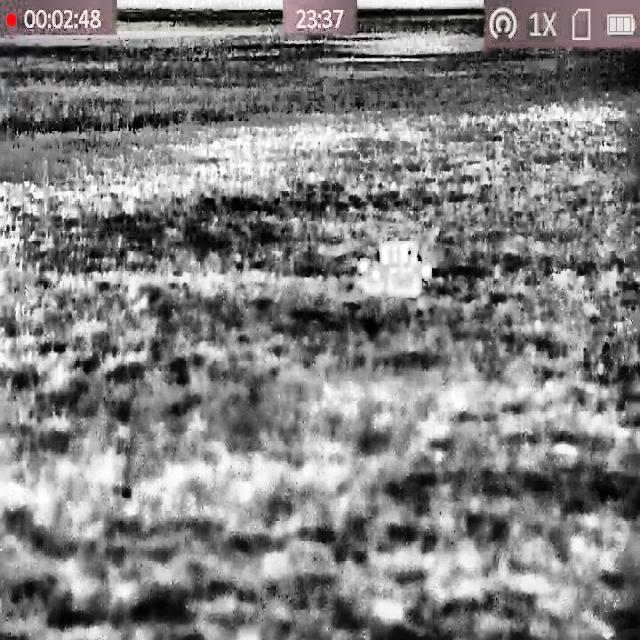drone: (355, 238, 432, 300)
